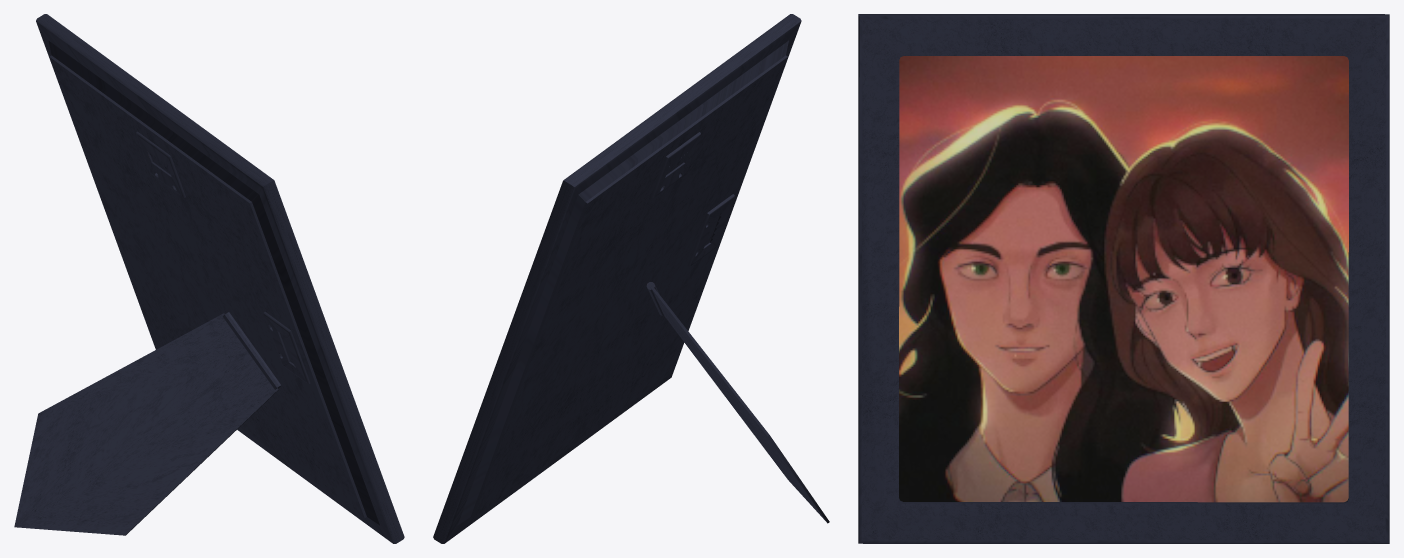
Rendered from PhotoFrame.fbx.
3 views of the same model, side by side, from view 1: azimuth 30°, elevation 25°; view 2: azimuth 150°, elevation 25°; view 3: azimuth 270°, elevation 25° (orthographic). The views are drawn at different scales.
Parts seen in each view (by area): view 1: PictureFrame; view 2: PictureFrame; view 3: PictureFrame.
Boxes of the visible parts, x1,y1,x2,y2 form: PictureFrame: [14, 14, 404, 543]; PictureFrame: [433, 14, 829, 543]; PictureFrame: [858, 14, 1389, 543].
Size of the model in its own units: 178 by 238 by 251.
